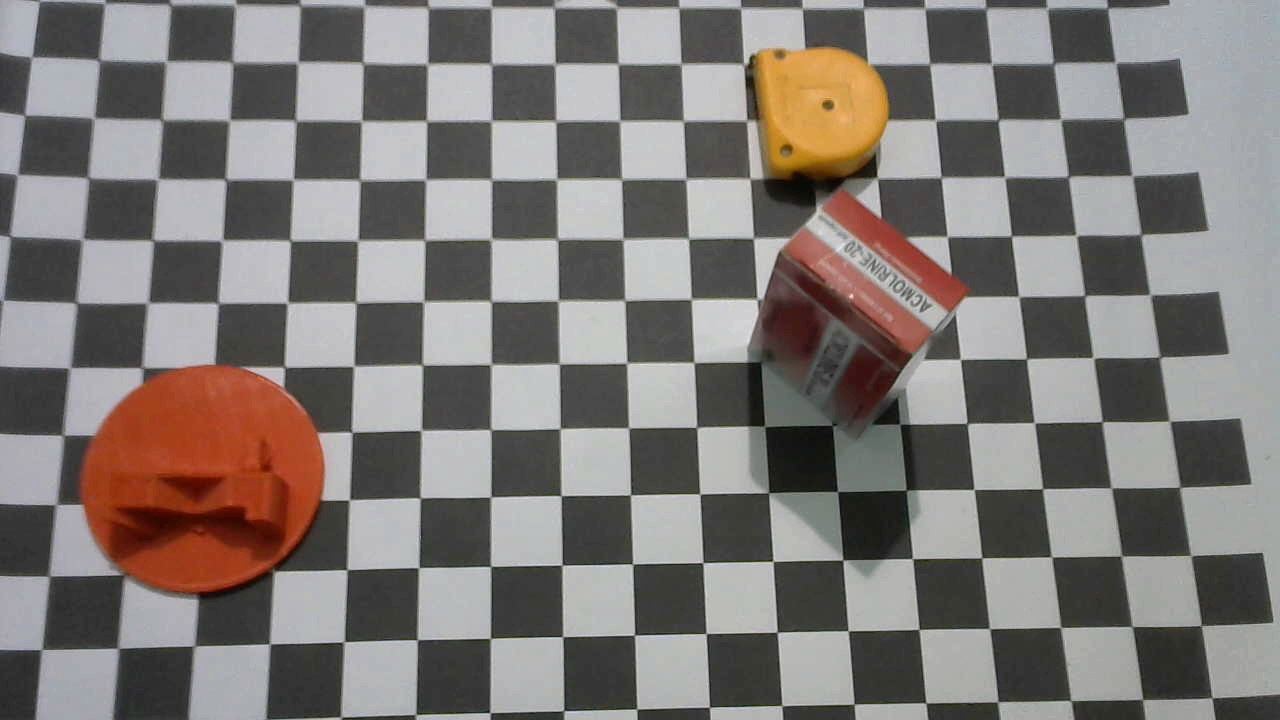blue: (745, 45, 891, 182)
green: (77, 368, 326, 594)
red: (746, 192, 966, 438)
